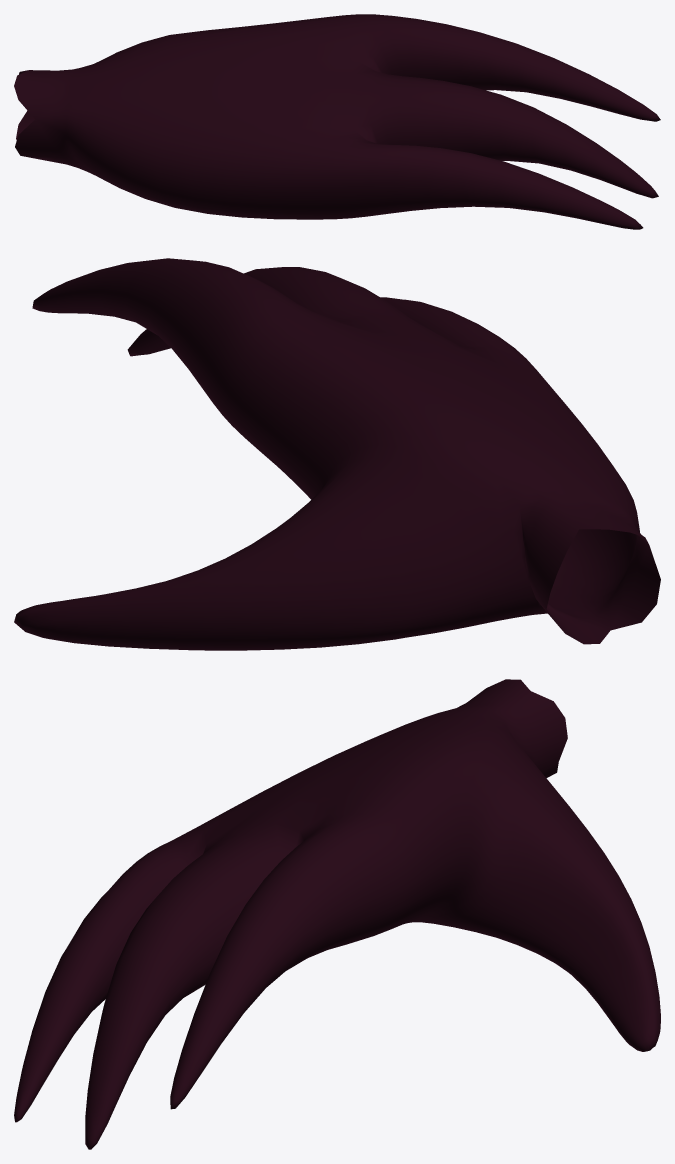
File: Mano derecha.fbx
The picture shows the model from 3 angles, top to bottom: view 1: azimuth 30°, elevation 25°; view 2: azimuth 150°, elevation 25°; view 3: azimuth 270°, elevation 25°; orthographic projection. The views are drawn at different scales.
Parts seen in each view (by area): view 1: Mano derecha; view 2: Mano derecha; view 3: Mano derecha.
Boxes of the visible parts, x1,y1,x2,y2 form: Mano derecha: [14, 14, 660, 229]; Mano derecha: [14, 258, 660, 650]; Mano derecha: [14, 679, 660, 1149].
Size of the model in its own units: 49.69 by 13.88 by 39.53.
